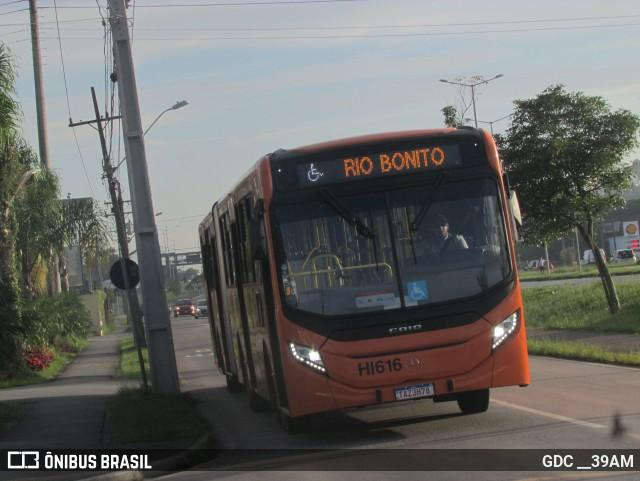RIO BONITO: (338, 143, 451, 184)
